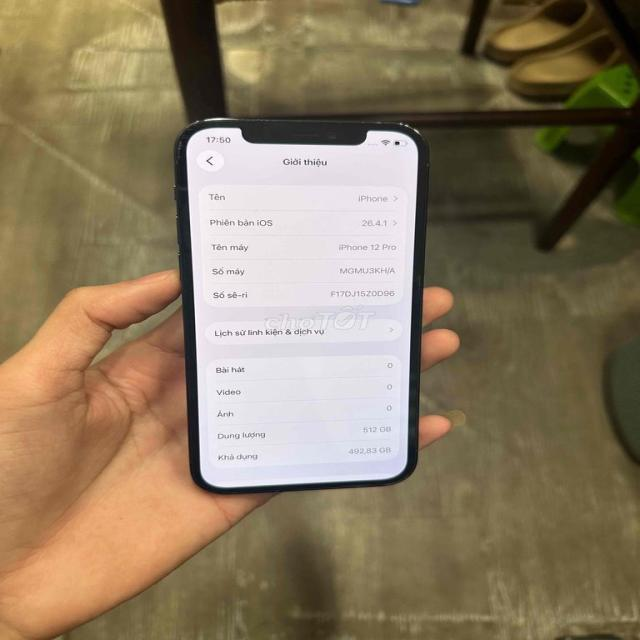gen_12_13: (167, 107, 449, 500)
